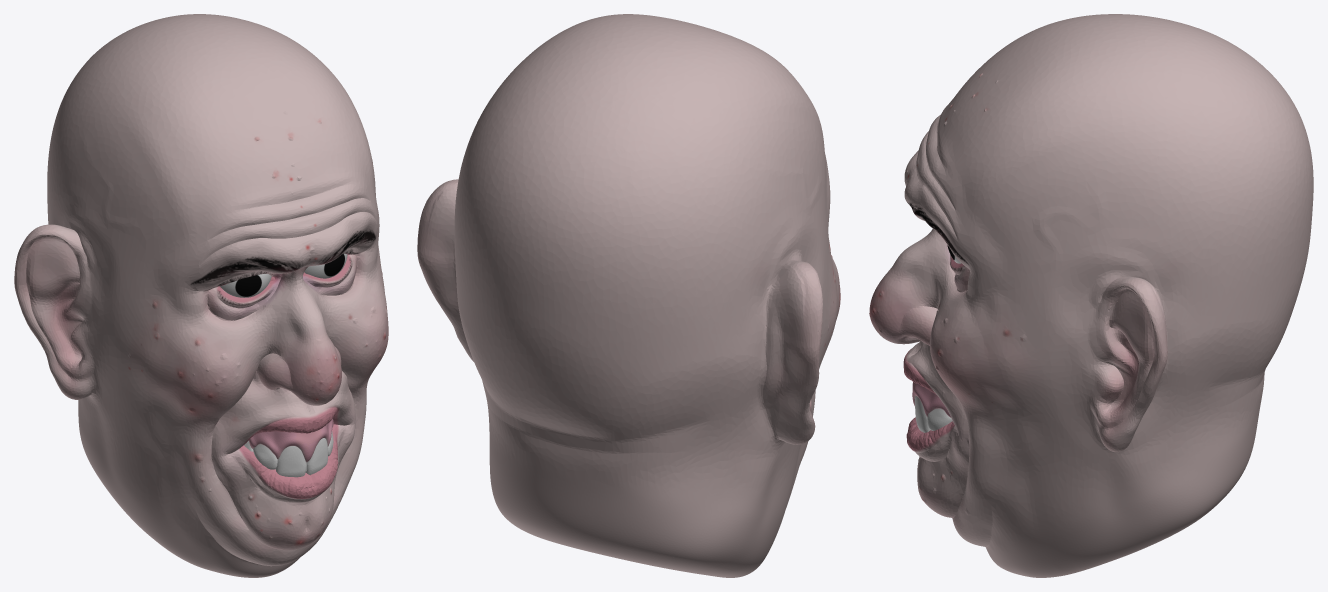
The model's file is head.glb.
3 renders of one model, left to right at view 1: azimuth 30°, elevation 25°; view 2: azimuth 150°, elevation 25°; view 3: azimuth 270°, elevation 25°, orthographic. The views are drawn at different scales.
Parts seen in each view (by area): view 1: Teefv; view 2: Teefv; view 3: Teefv.
Boxes of the visible parts, box(x1,y1,x2,y2) form: Teefv: box(14, 14, 388, 577); Teefv: box(417, 14, 840, 577); Teefv: box(869, 14, 1313, 577).
Bounding box in the file's own units: 1.07 × 1.44 × 1.09.
